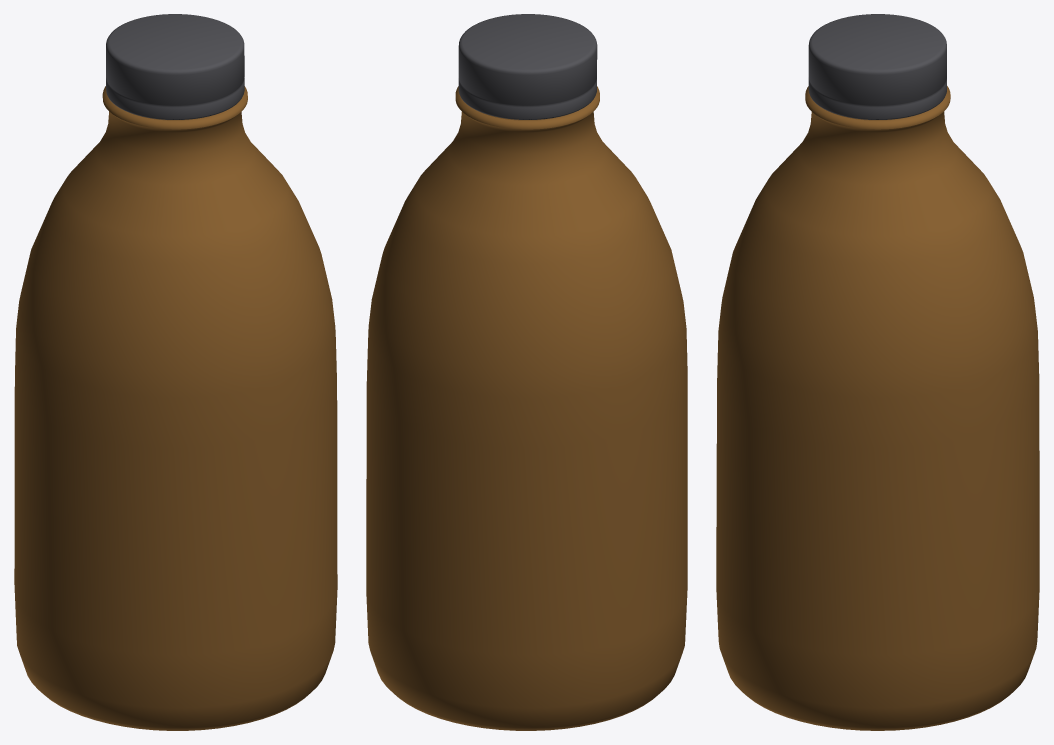
Rendered from bottle_growler.glb.
The picture shows the model from 3 angles, left to right: view 1: azimuth 30°, elevation 25°; view 2: azimuth 150°, elevation 25°; view 3: azimuth 270°, elevation 25°; orthographic projection.
Visible parts, largest first — view 1: Glass, Cap; view 2: Glass, Cap; view 3: Glass, Cap.
Boxes of the visible parts, left/top/right/bottom form: Glass: left=14, top=86, right=337, bottom=730; Cap: left=106, top=14, right=244, bottom=119; Glass: left=366, top=86, right=687, bottom=730; Cap: left=458, top=14, right=597, bottom=119; Glass: left=716, top=86, right=1039, bottom=730; Cap: left=808, top=14, right=946, bottom=119.
Bounding box in the file's own units: 0.1006 × 0.2172 × 0.101.
